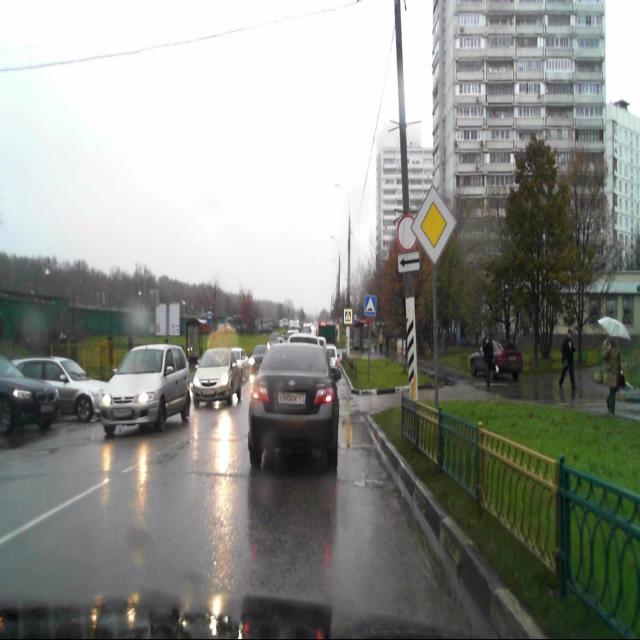road sign: (410, 186, 456, 263), (398, 251, 420, 272), (364, 295, 376, 316), (344, 308, 352, 323)
